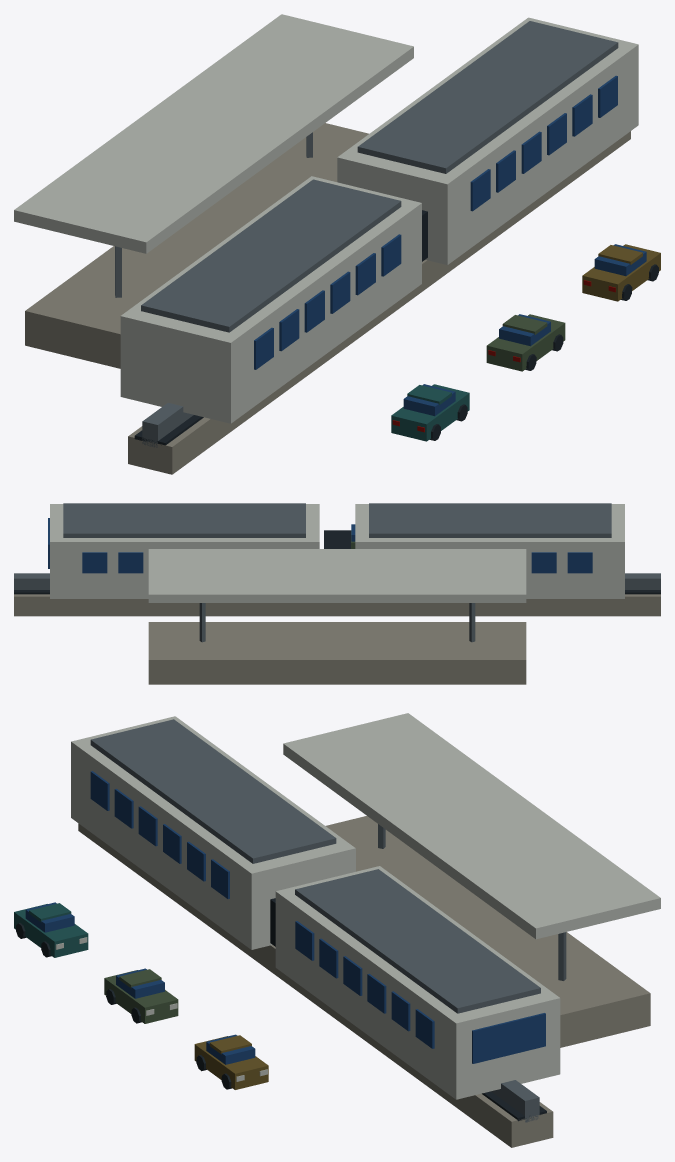
The model's file is maglevtrain5.glb.
The picture shows the model from 3 angles, top to bottom: view 1: azimuth 30°, elevation 25°; view 2: azimuth 150°, elevation 25°; view 3: azimuth 270°, elevation 25°; orthographic projection. The views are drawn at different scales.
Visible parts, largest first — view 1: maglevtrain5; view 2: maglevtrain5; view 3: maglevtrain5.
Part boxes in pixels (x1,y1,x2,y2): maglevtrain5: (14, 14, 660, 474); maglevtrain5: (14, 503, 660, 684); maglevtrain5: (14, 713, 660, 1147).
Bounding box in the file's own units: 64.35 × 11.5 × 53.76.
